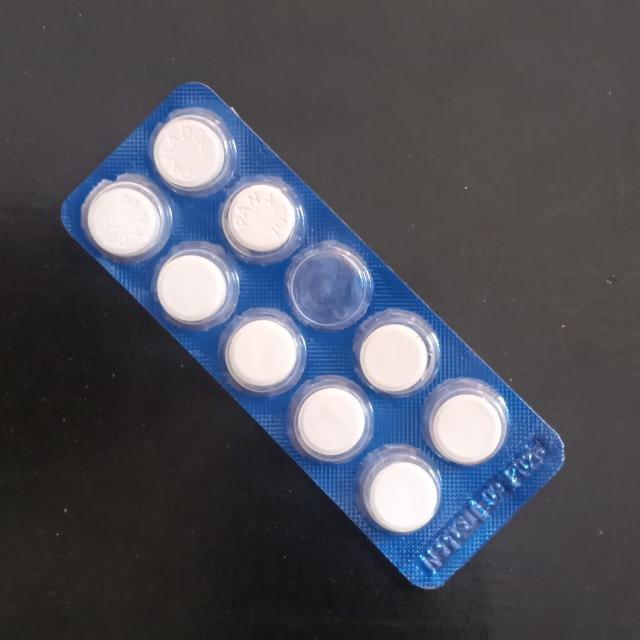defect: (287, 244, 371, 328)
